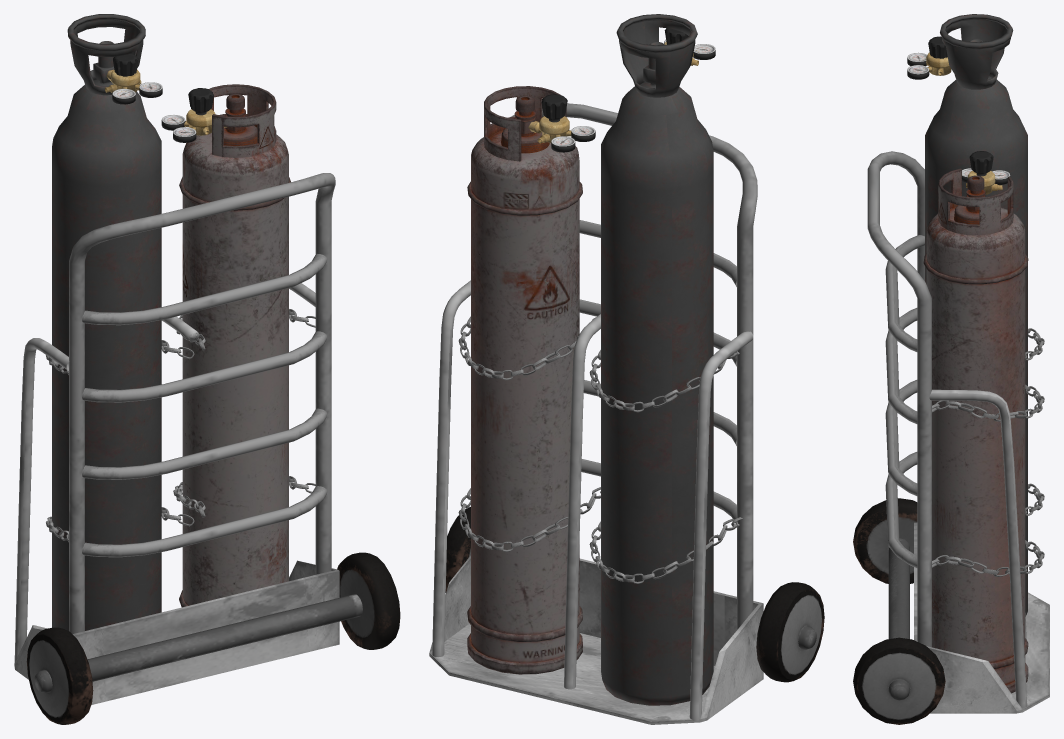
File: Cylinder with trolley chained.fbx
The picture shows the model from 3 angles, left to right: view 1: azimuth 30°, elevation 25°; view 2: azimuth 150°, elevation 25°; view 3: azimuth 270°, elevation 25°; orthographic projection. The views are drawn at different scales.
Visible parts, largest first — view 1: gastank_m_gasTank_0.016, _gltfNode_0.033, gastank_m_gasTank_0.004, Plane.004, _gltfNode_0.036, _gltfNode_0.034, _gltfNode_0.010; view 2: _gltfNode_0.033, gastank_m_gasTank_0.004, gastank_m_gasTank_0.016, Plane.004, _gltfNode_0.036, _gltfNode_0.010, gastank_m_gasTank_0.020, gastank_m_gasTank_0.018, gastank_m_gasTank_0.017, gastank_m_gasTank_0.019; view 3: gastank_m_gasTank_0.004, gastank_m_gasTank_0.016, _gltfNode_0.033, Plane.004, _gltfNode_0.036, _gltfNode_0.034, gastank_m_gasTank_0.017, gastank_m_gasTank_0.018, _gltfNode_0.010, _gltfNode_0.009, _gltfNode_0.035.
Part boxes in pixels (x1,y1,x2,y2): gastank_m_gasTank_0.016: (14, 173, 400, 724); _gltfNode_0.033: (52, 41, 161, 630); gastank_m_gasTank_0.004: (179, 84, 290, 607); Plane.004: (14, 283, 315, 662); _gltfNode_0.036: (67, 14, 145, 95); _gltfNode_0.034: (105, 69, 162, 104); _gltfNode_0.010: (161, 109, 226, 142); _gltfNode_0.033: (601, 42, 713, 705); gastank_m_gasTank_0.004: (467, 86, 582, 674); gastank_m_gasTank_0.016: (429, 103, 824, 724); Plane.004: (432, 280, 753, 720); _gltfNode_0.036: (616, 14, 697, 97); _gltfNode_0.010: (528, 116, 595, 152); gastank_m_gasTank_0.020: (589, 517, 742, 583); gastank_m_gasTank_0.018: (458, 487, 600, 551); gastank_m_gasTank_0.017: (458, 316, 595, 380); gastank_m_gasTank_0.019: (589, 350, 739, 412); gastank_m_gasTank_0.004: (923, 168, 1028, 693); gastank_m_gasTank_0.016: (853, 151, 1049, 724); _gltfNode_0.033: (925, 39, 1027, 616); Plane.004: (929, 389, 1027, 708); _gltfNode_0.036: (940, 14, 1013, 89); _gltfNode_0.034: (907, 52, 951, 79); gastank_m_gasTank_0.017: (932, 384, 1044, 421); gastank_m_gasTank_0.018: (932, 540, 1044, 576); _gltfNode_0.010: (962, 168, 1010, 194); _gltfNode_0.009: (969, 151, 993, 176); _gltfNode_0.035: (928, 36, 947, 58).
Size of the model in its own units: 99.22 by 173 by 51.99.
5 materials, 5 textured.
